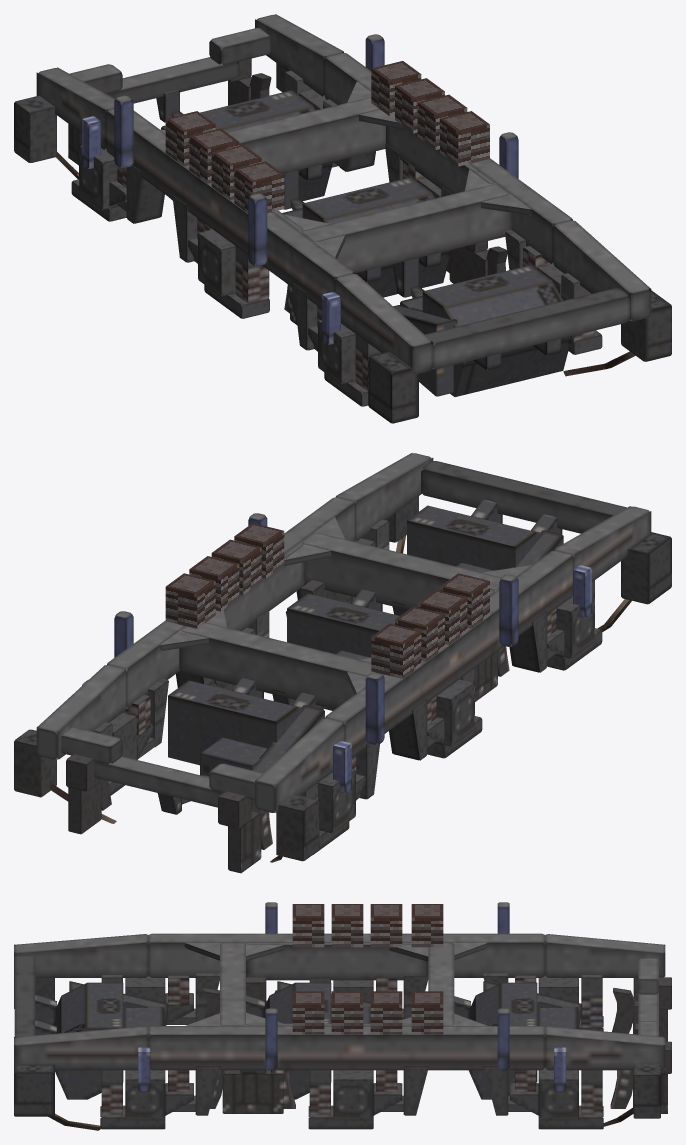
Rendered from df11g_bogey_temple.obj.
3 renders of one model, top to bottom at view 1: azimuth 30°, elevation 25°; view 2: azimuth 150°, elevation 25°; view 3: azimuth 270°, elevation 25°, orthographic. The views are drawn at different scales.
Visible parts, largest first — view 1: cube, primary_spring; view 2: cube, primary_spring; view 3: cube, primary_spring.
Part boxes in pixels (x1,y1,x2,y2): cube: [14, 14, 671, 423]; primary_spring: [79, 34, 594, 390]; cube: [14, 453, 671, 873]; primary_spring: [82, 513, 594, 799]; cube: [14, 933, 671, 1130]; primary_spring: [101, 902, 602, 1114].
Bounding box in the file's own units: 2.79 × 1.48 × 6.33.
6 materials, 6 textured.
